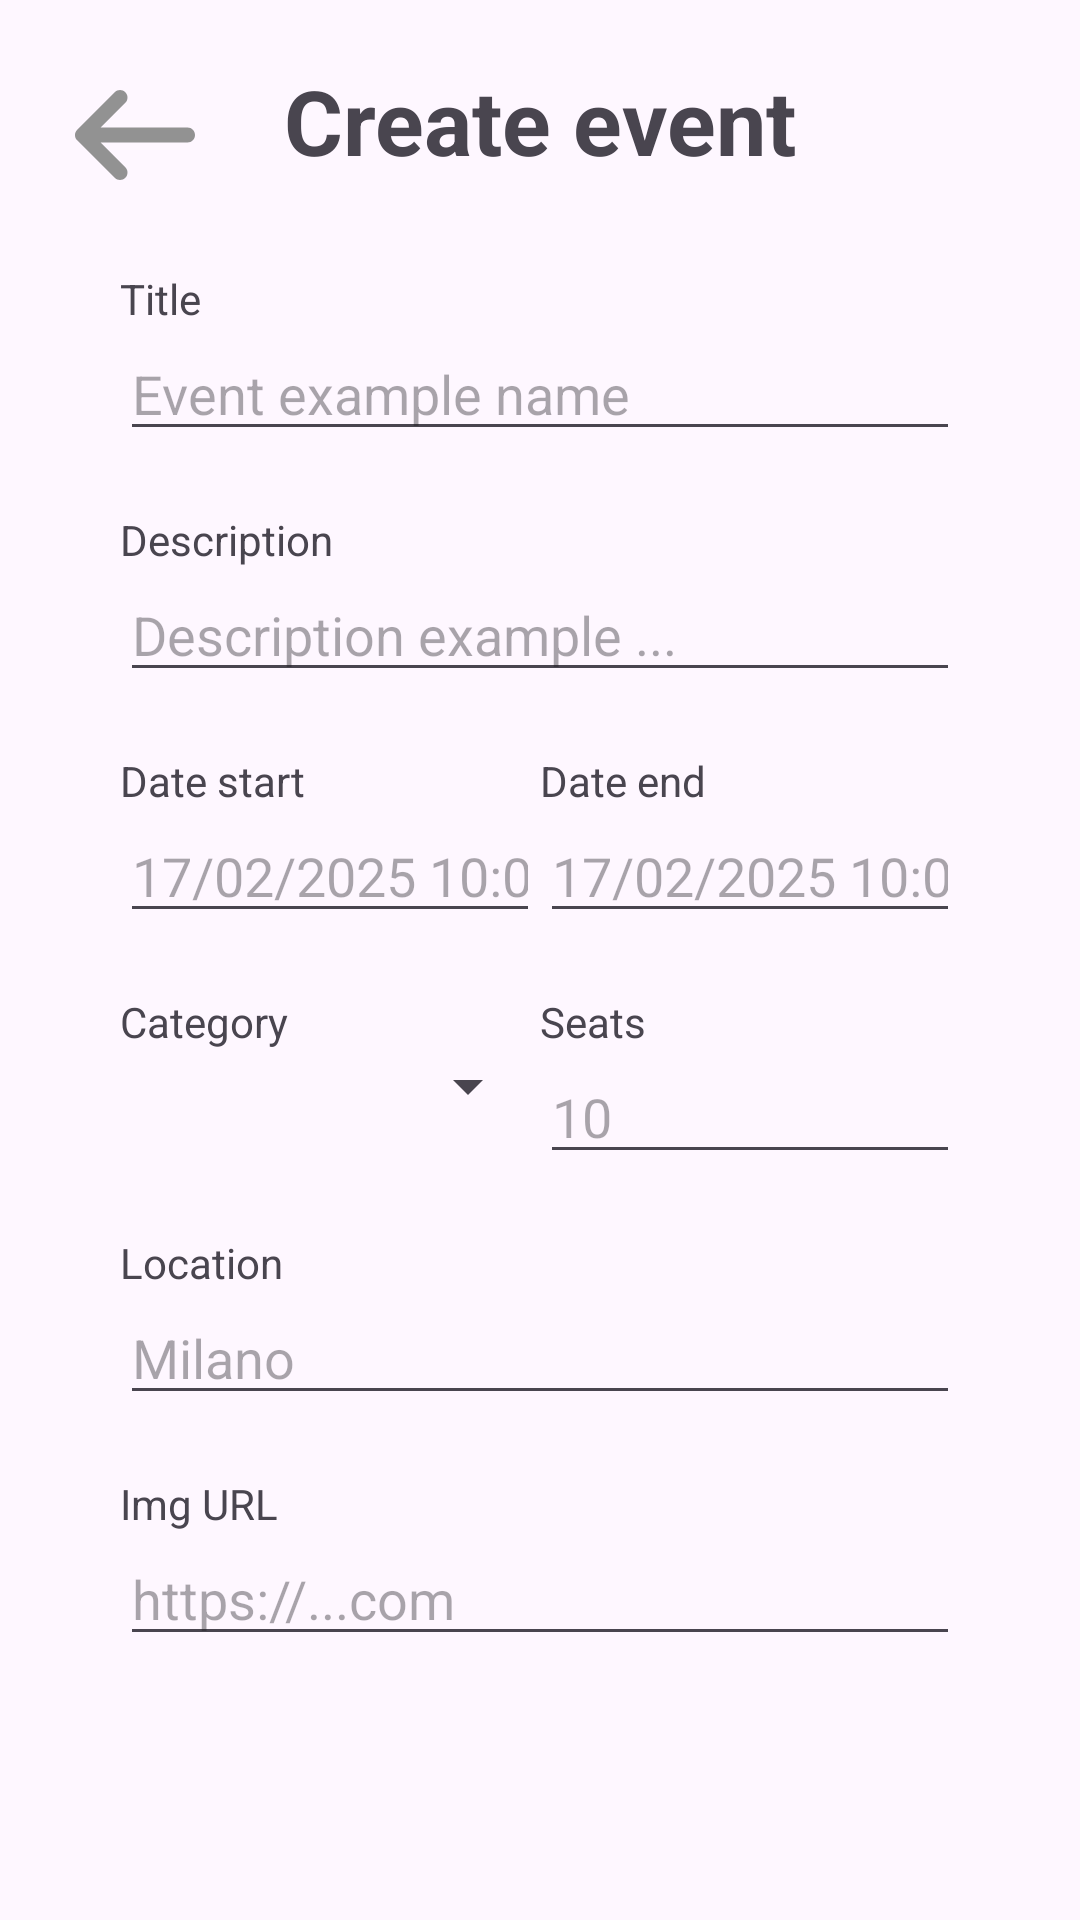

Where icons sit on this 1080px×1920px app screen, as [x1, y1, x2, y2]:
arrow left: [75, 90, 195, 180]
